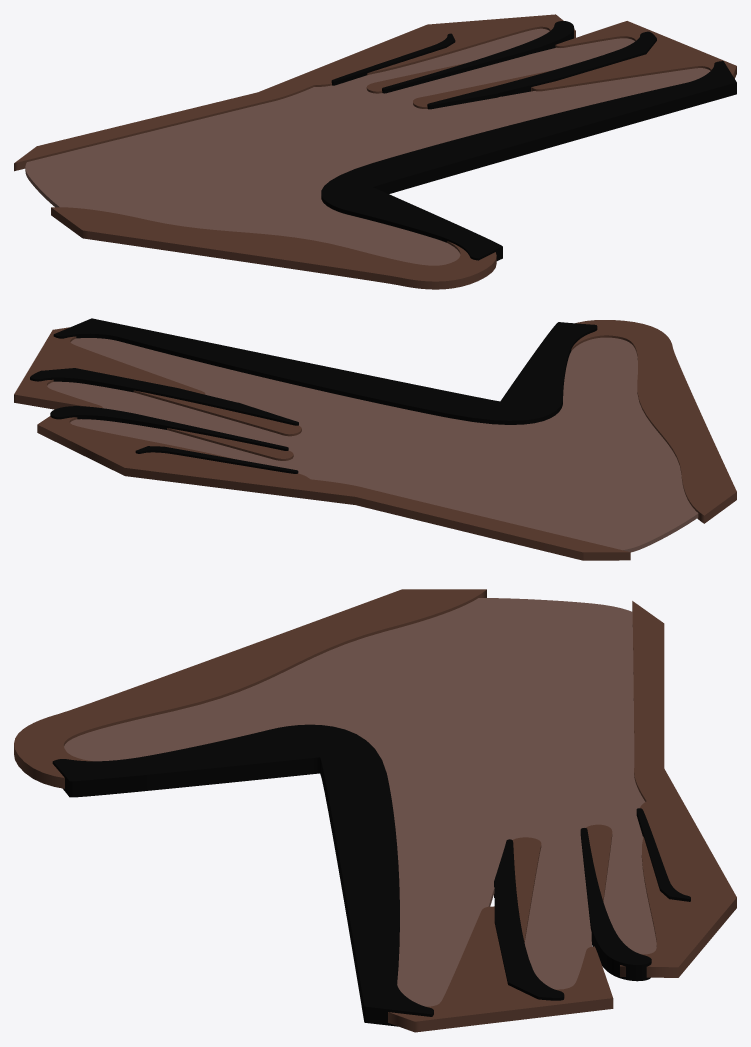
File: emoji_u1faf3_1f3ff.glb
The picture shows the model from 3 angles, top to bottom: view 1: azimuth 30°, elevation 25°; view 2: azimuth 150°, elevation 25°; view 3: azimuth 270°, elevation 25°; orthographic projection. The views are drawn at different scales.
Visible parts, largest first — view 1: emoji_u1faf3_1f3ff; view 2: emoji_u1faf3_1f3ff; view 3: emoji_u1faf3_1f3ff.
Boxes of the visible parts, box(x1,y1,x2,y2) form: emoji_u1faf3_1f3ff: box(14, 14, 736, 289); emoji_u1faf3_1f3ff: box(14, 318, 736, 560); emoji_u1faf3_1f3ff: box(14, 589, 736, 1032).
Size of the model in its own units: 0.0345 by 0.0006 by 0.0244.
